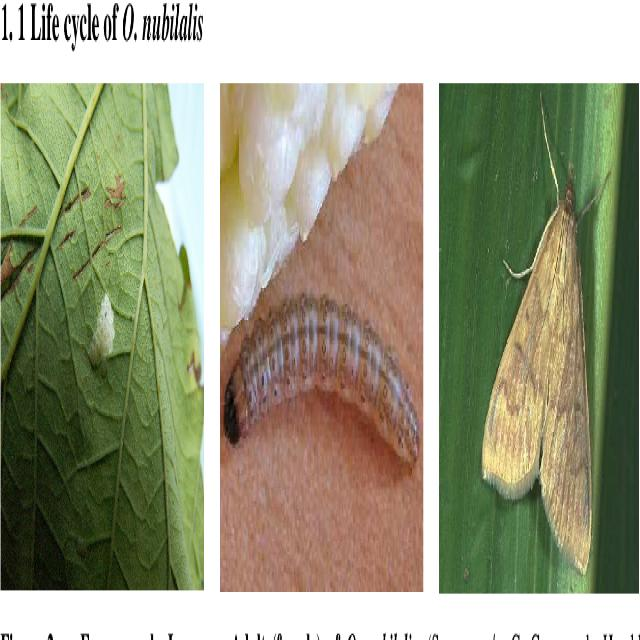cornborer-Adult-: (476, 150, 614, 575)
cornborer-Larva-: (223, 280, 422, 500)
